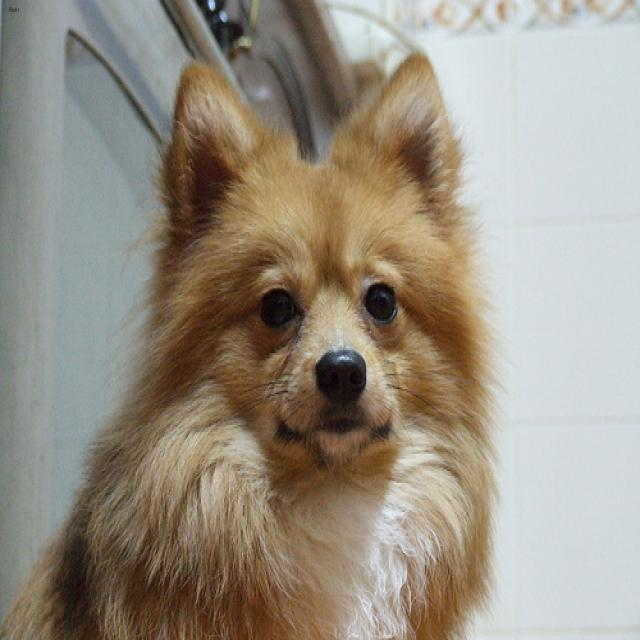dog-pomeranian: (1, 44, 518, 637)
